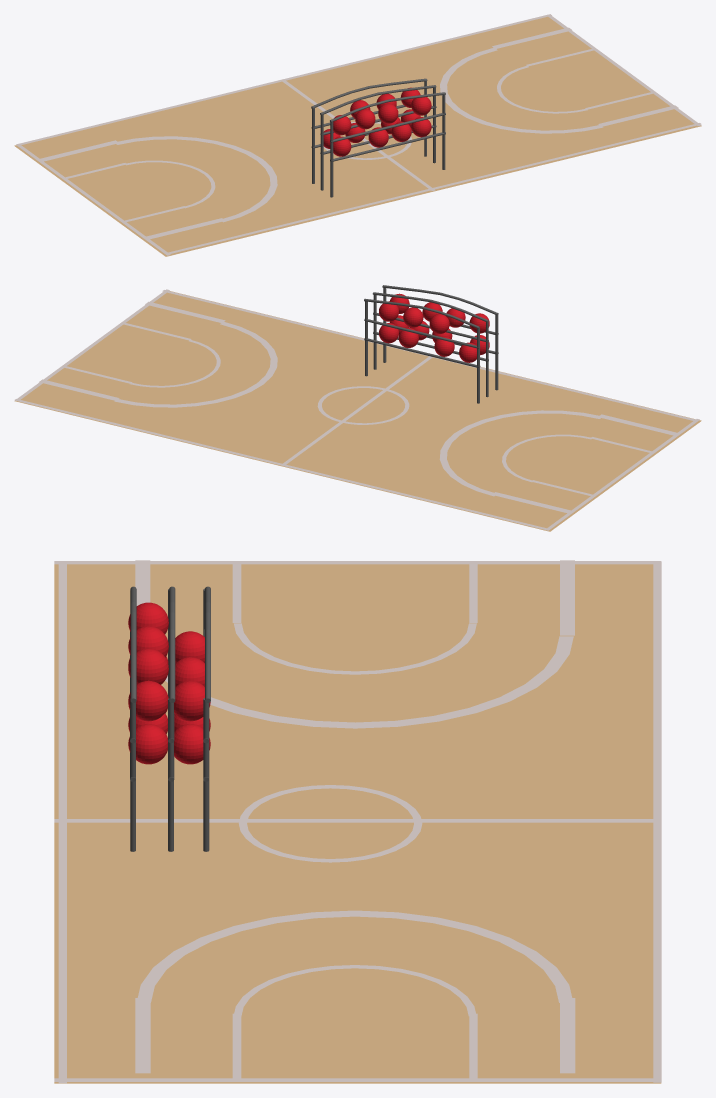
Rendered from dodge ball.fbx.
3 views of the same model, one above another, from view 1: azimuth 30°, elevation 25°; view 2: azimuth 150°, elevation 25°; view 3: azimuth 270°, elevation 25° (orthographic). The views are drawn at different scales.
Visible parts, largest first — view 1: Plane, Cylinder.014, Plane.008, Plane.009, Plane.005, Plane.004, Plane.006, Plane.007, Plane.003, Plane.002, Plane.001; view 2: Plane, Cylinder.014, Plane.009, Plane.008, Plane.005, Plane.004, Plane.006, Plane.007, Plane.003, Plane.001, Plane.002, Circle; view 3: Plane, Plane.009, Cylinder.014, Plane.008, Plane.005, Plane.004, Plane.006, Plane.007, Plane.002, Plane.001, Plane.003, Circle (+7 smaller).
Part boxes in pixels (box(x1,y1,x2,y2)): Plane: box(14, 16, 701, 256); Cylinder.014: box(311, 78, 445, 197); Plane.008: box(39, 136, 277, 239); Plane.009: box(440, 27, 678, 133); Plane.005: box(19, 14, 551, 144); Plane.004: box(168, 123, 701, 253); Plane.006: box(497, 48, 654, 113); Plane.007: box(65, 160, 215, 221); Plane.003: box(16, 144, 170, 255); Plane.002: box(548, 16, 701, 126); Plane.001: box(282, 80, 435, 190); Plane: box(14, 291, 701, 531); Cylinder.014: box(364, 285, 498, 403); Plane.009: box(39, 301, 277, 407); Plane.008: box(439, 410, 678, 513); Plane.005: box(14, 399, 546, 529); Plane.004: box(162, 290, 695, 420); Plane.006: box(62, 322, 220, 387); Plane.007: box(502, 434, 651, 495); Plane.003: box(545, 419, 699, 530); Plane.001: box(283, 356, 432, 464); Plane.002: box(17, 289, 169, 399); Circle: box(317, 386, 409, 424); Plane: box(54, 564, 661, 1083); Plane.009: box(135, 910, 575, 1073); Cylinder.014: box(130, 586, 210, 851); Plane.008: box(135, 560, 574, 728); Plane.005: box(653, 562, 661, 1082); Plane.004: box(58, 564, 66, 1083); Plane.006: box(232, 965, 477, 1080); Plane.007: box(232, 564, 477, 674); Plane.002: box(54, 1078, 653, 1081); Plane.001: box(54, 819, 653, 822); Plane.003: box(54, 561, 661, 564); Circle: box(238, 785, 422, 862).
Bounding box in the file's own units: 1811 × 269 × 887.
